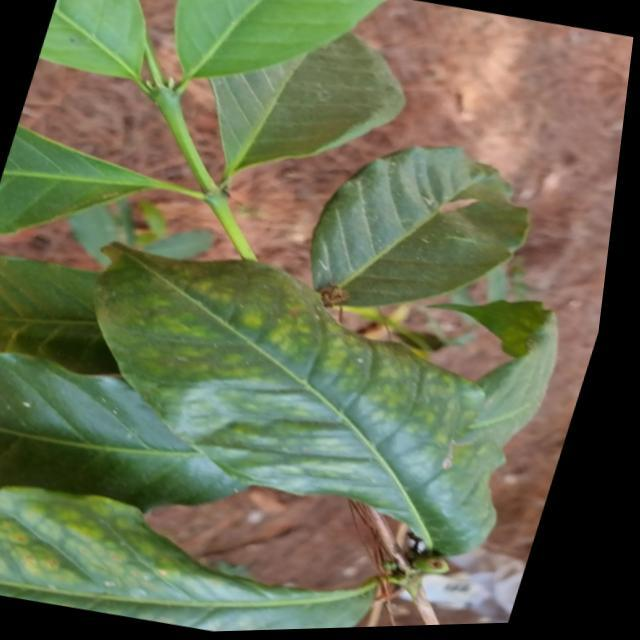leaves: (43, 197, 548, 593), (0, 483, 382, 640), (0, 349, 263, 543), (288, 125, 542, 322), (199, 25, 412, 177)
